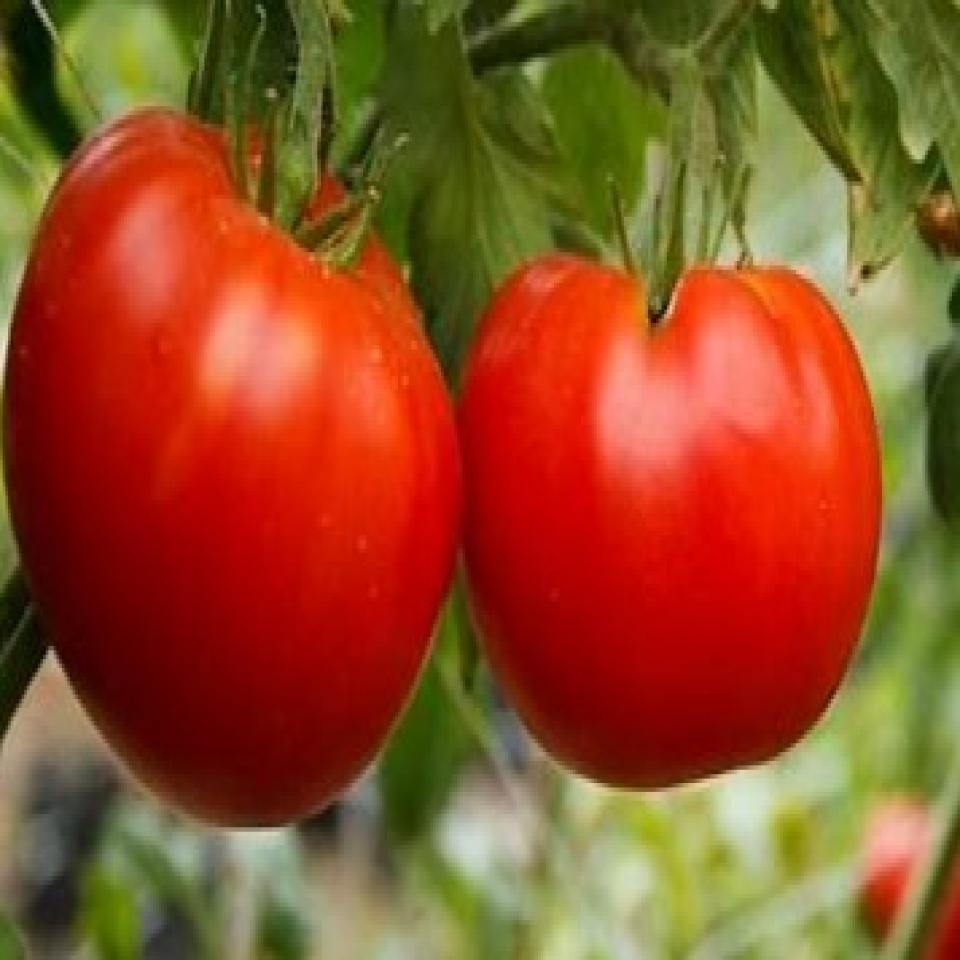Healthy: (4, 88, 477, 824), (482, 183, 879, 804)
